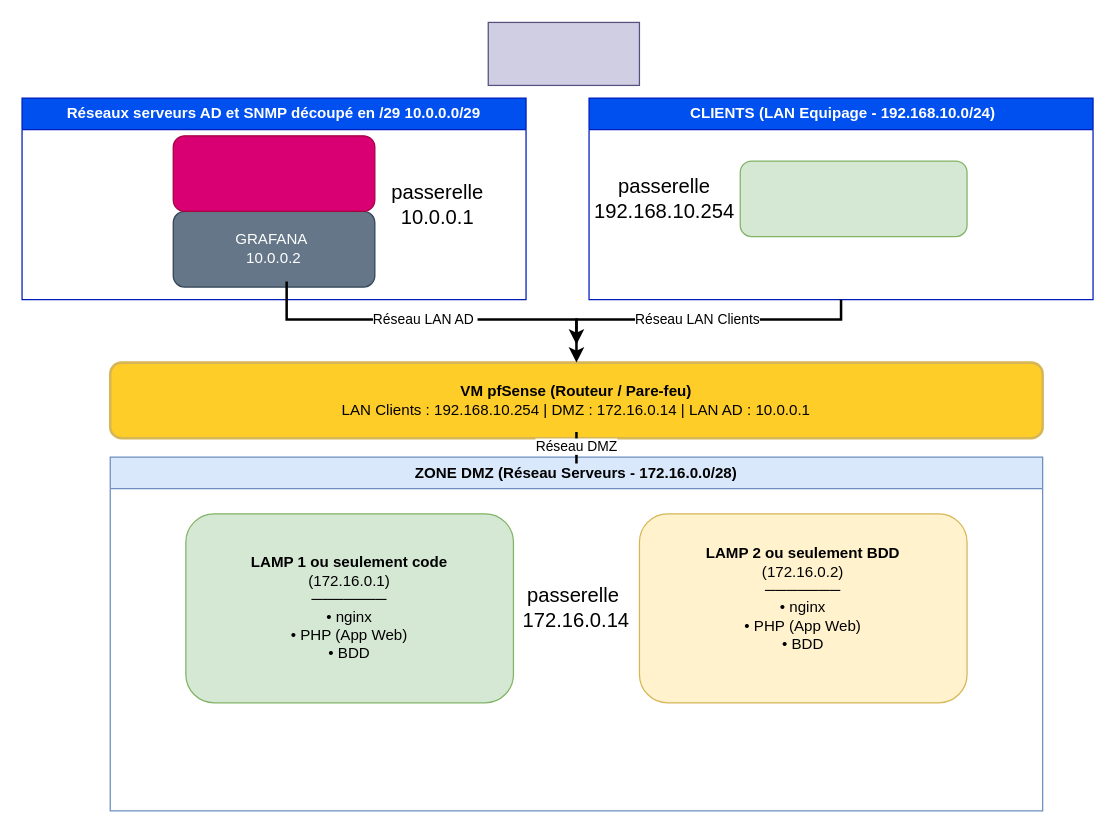
Some shapes in this 1115 by 833 pixel diagram are drawn without their labels. The shapes that lost their labels are listed below. From the top down, each one's centre as x and y in pixels, then its label:
At [563,53]: "PROXMOX".
At [273,173]: "SRV AD 1 10.0.0.3".
At [853,198]: "PC TEST 192.168.10.50".
